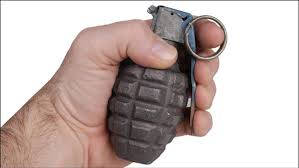e1: (107, 1, 206, 165)
